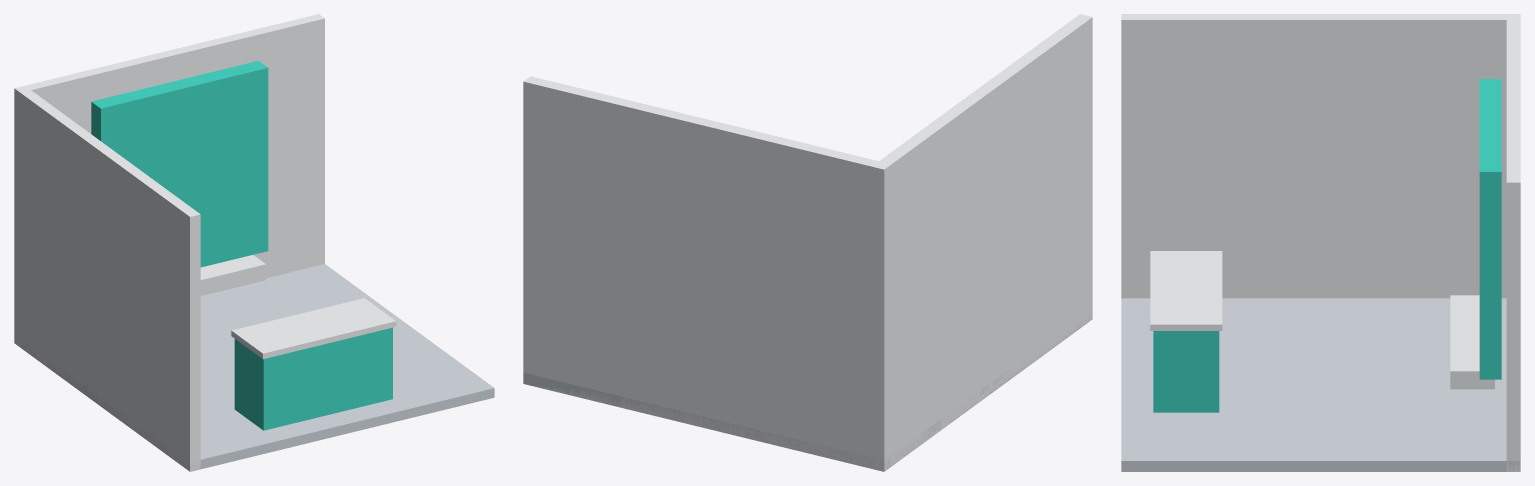
3 views of the same model, side by side, from view 1: azimuth 30°, elevation 25°; view 2: azimuth 150°, elevation 25°; view 3: azimuth 270°, elevation 25° (orthographic). The views are drawn at different scales.
Visible parts, largest first — view 1: Exhibition Booth Concept; view 2: Exhibition Booth Concept; view 3: Exhibition Booth Concept.
Boxes of the visible parts, <box> form: Exhibition Booth Concept: <box>14,14,494,471</box>; Exhibition Booth Concept: <box>523,14,1092,471</box>; Exhibition Booth Concept: <box>1121,14,1520,471</box>.
Size of the model in its own units: 4 by 3.2 by 4.
